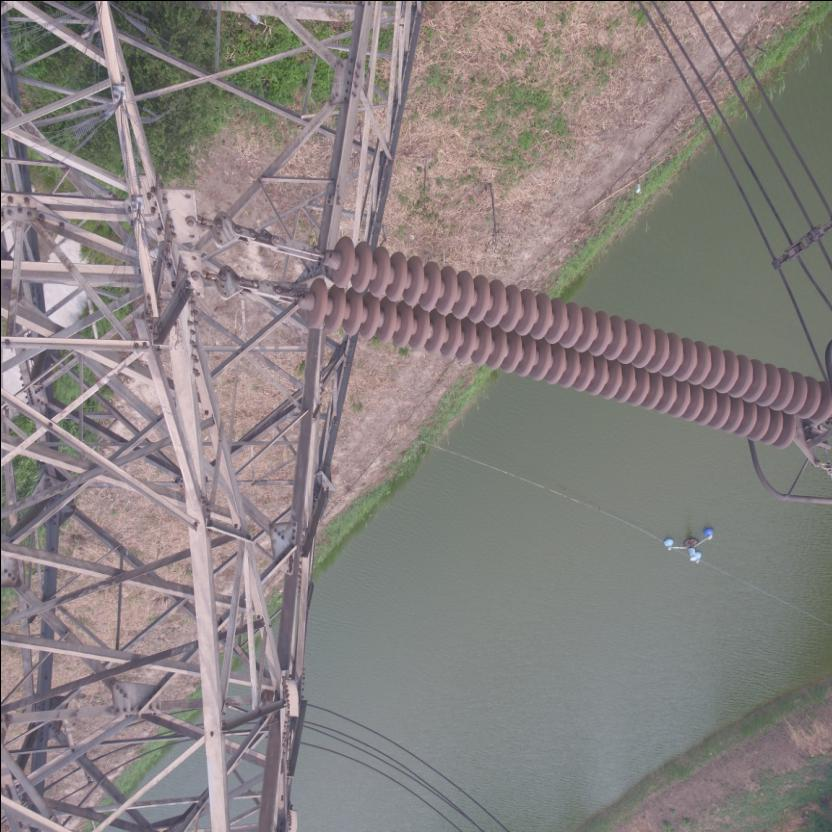insulator: (246, 228, 831, 456)
